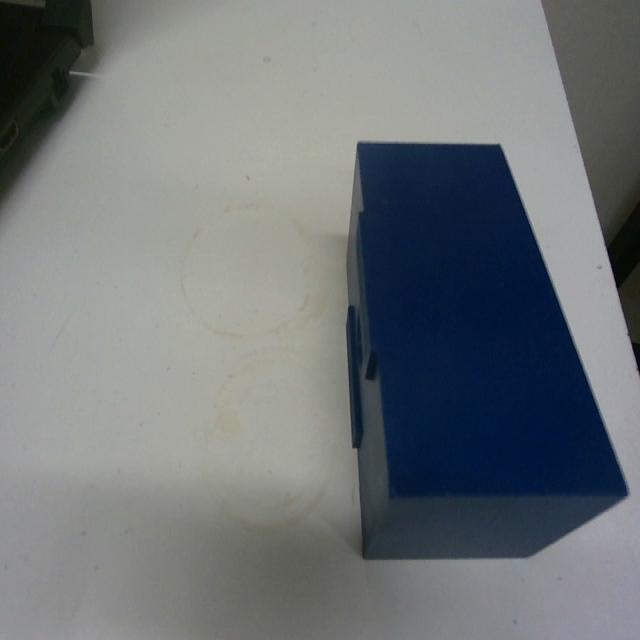Blue Cuboid: (342, 136, 629, 561)
